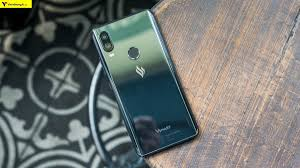vsmart: (91, 6, 197, 161)
